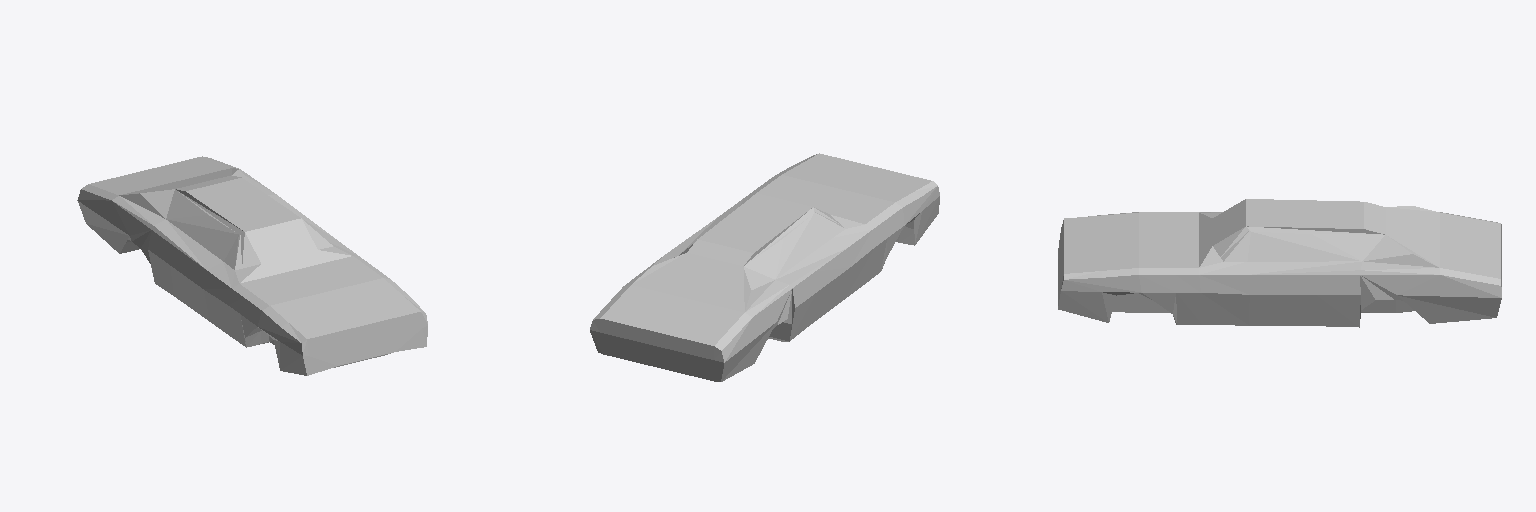
File: Doge.obj
The picture shows the model from 3 angles: view 1: azimuth 30°, elevation 25°; view 2: azimuth 150°, elevation 25°; view 3: azimuth 270°, elevation 25°; orthographic projection.
Parts seen in each view (by area): view 1: Cube_Cube.001; view 2: Cube_Cube.001; view 3: Cube_Cube.001.
Part boxes in pixels (x1,y1,x2,y2): Cube_Cube.001: (77,156,427,375); Cube_Cube.001: (590,153,939,381); Cube_Cube.001: (1058,199,1501,327).
Bounding box in the file's own units: 1.72 × 1.05 × 4.89.